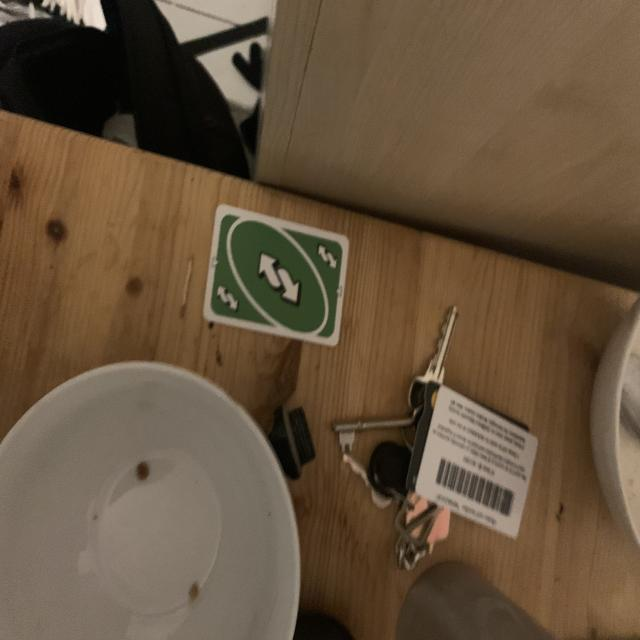lgreenrevers-20: (314, 240, 341, 273)
